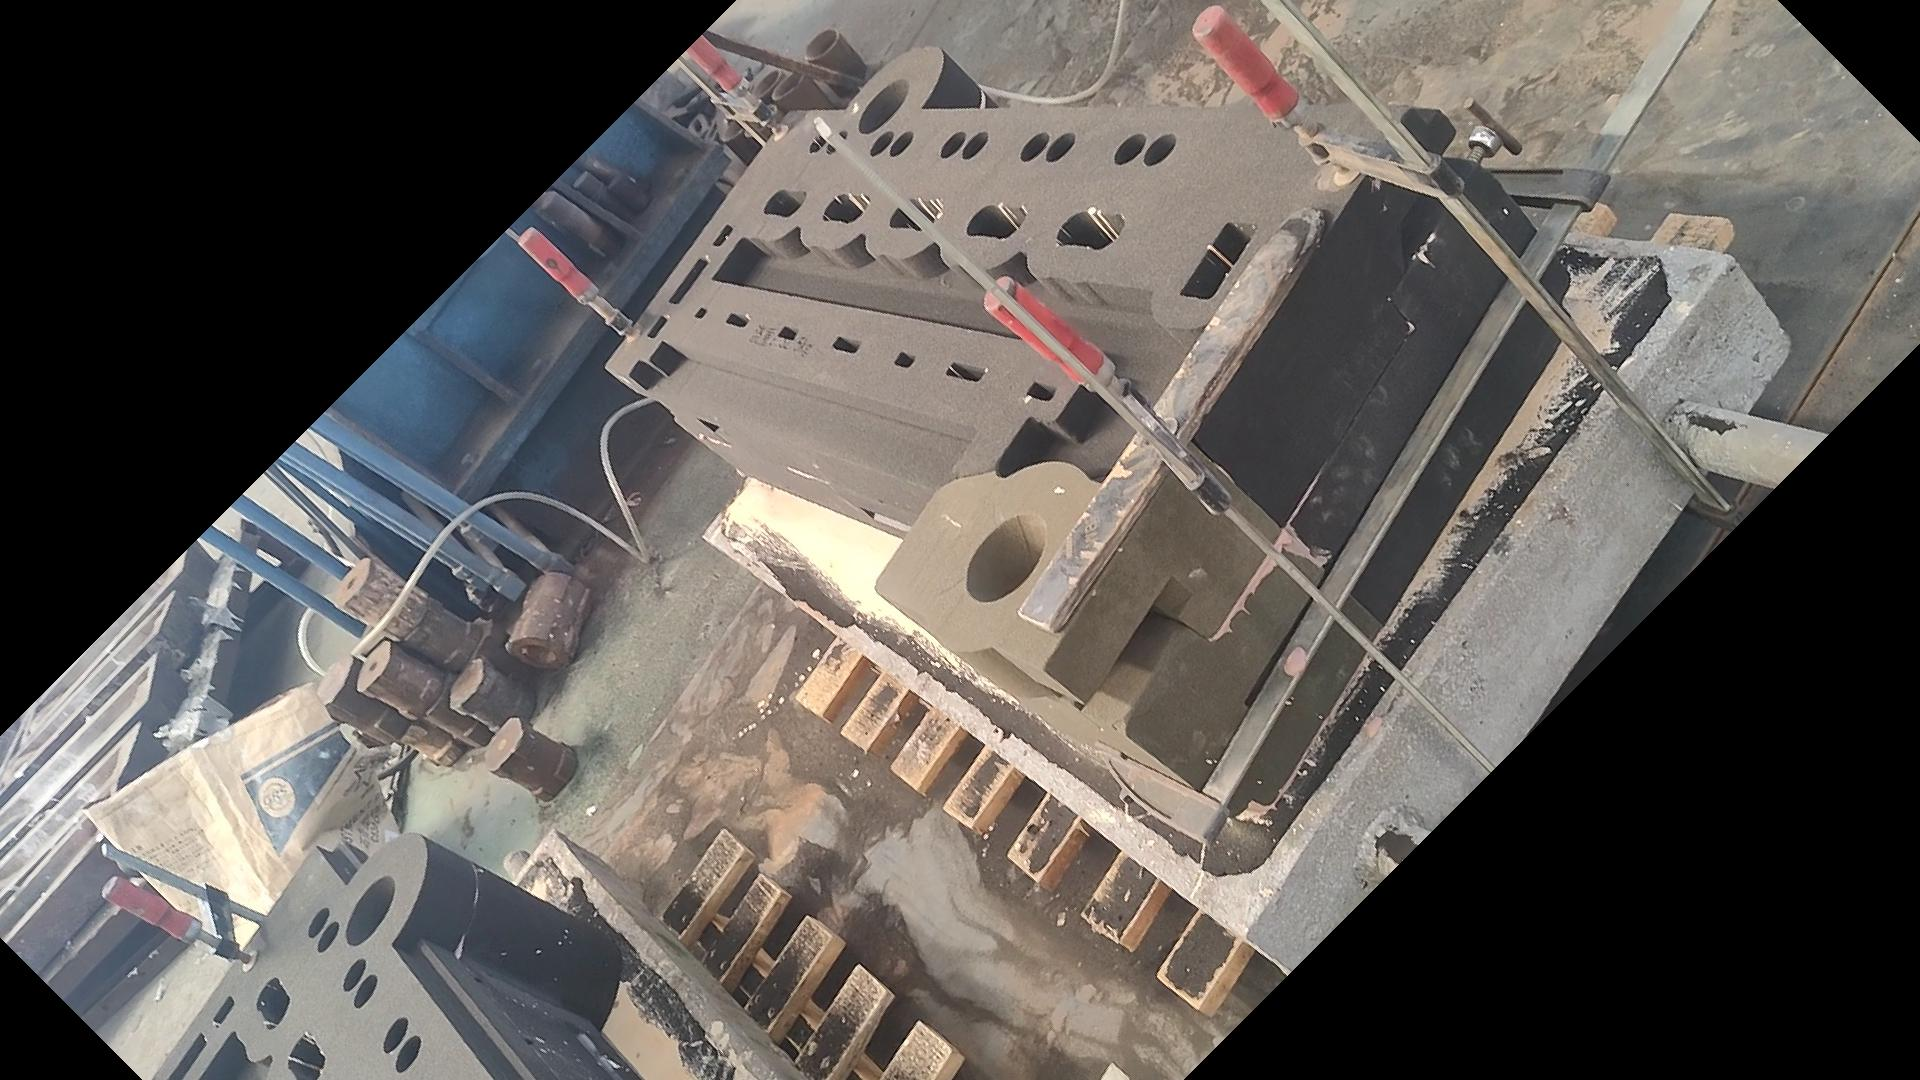pouring hole: (967, 512, 1047, 603), (345, 876, 396, 945), (858, 78, 910, 133), (803, 28, 840, 59), (746, 102, 777, 135), (770, 69, 804, 98), (750, 69, 782, 96), (721, 115, 745, 141), (727, 104, 762, 121)
